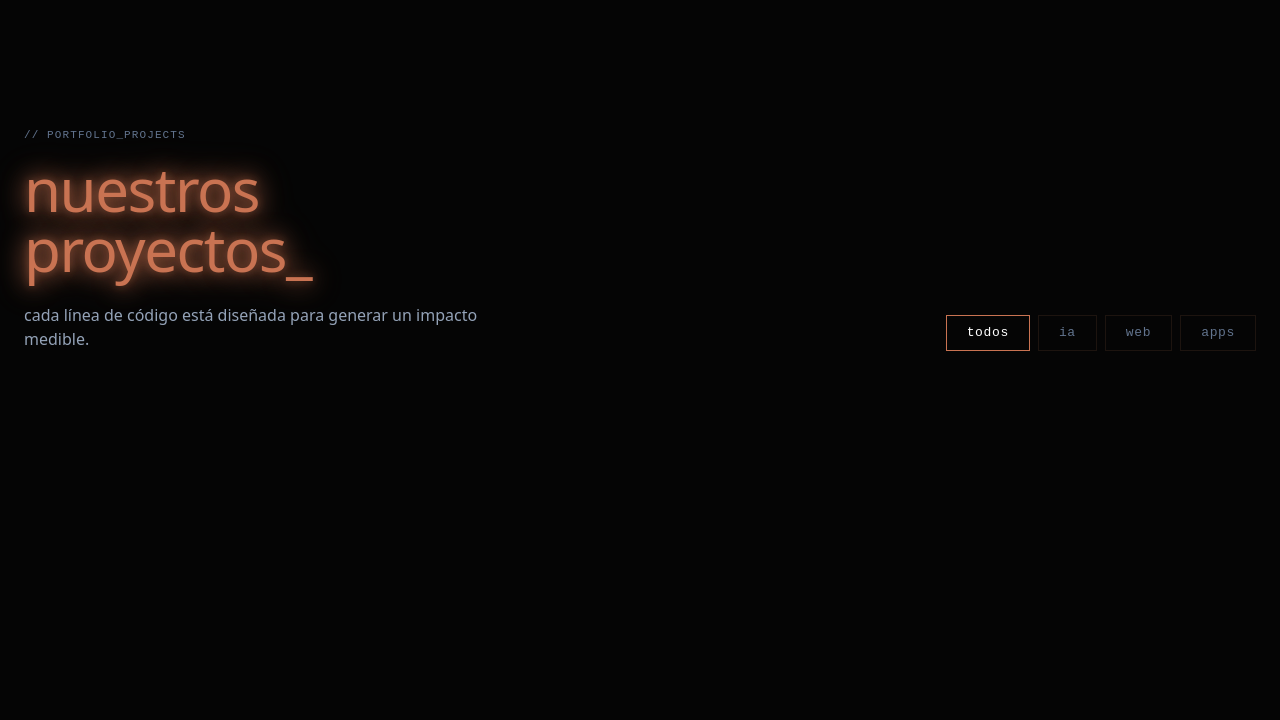
Test: PortfolioPage › debería filtrar los proyectos al hacer click
// Seleccionamos específicamente el botón de filtro para evitar colisión con los tags de los proyectos
Click the button "ia" at (1067, 333), box [1038,315,1097,351]
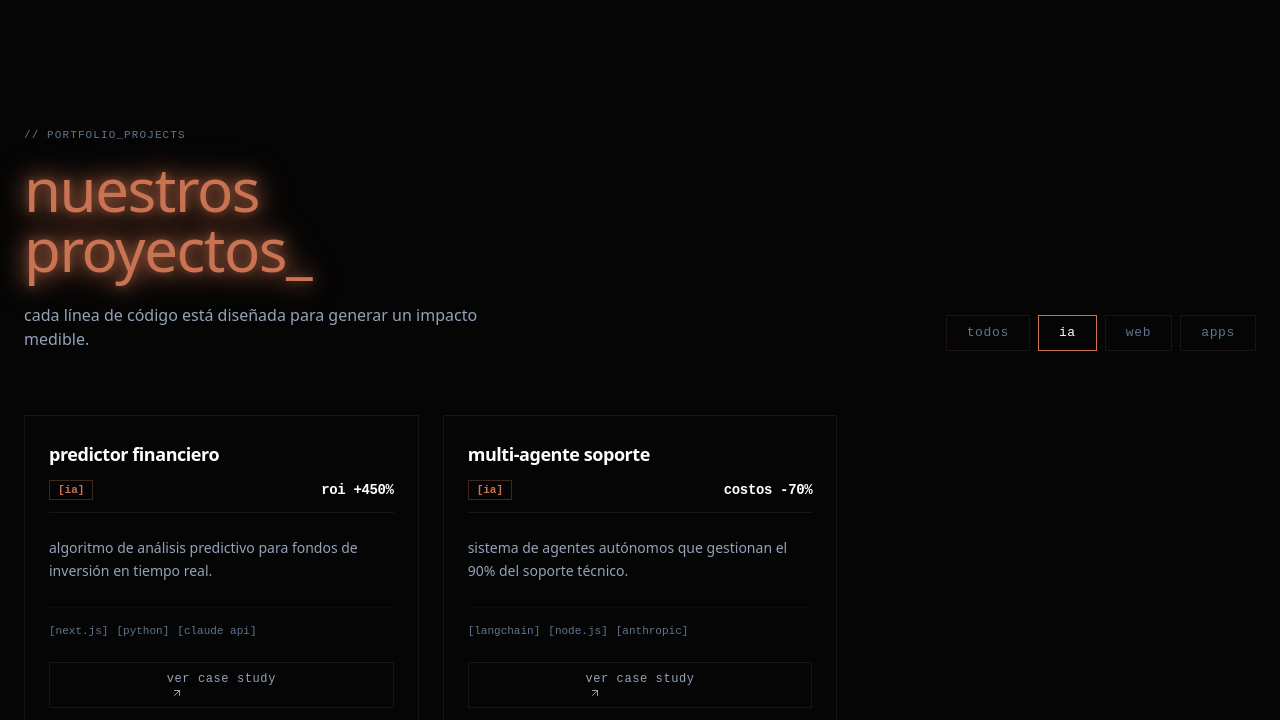
Check: the heading "PREDICTOR FINANCIERO" is shown, box [49,442,219,466]
